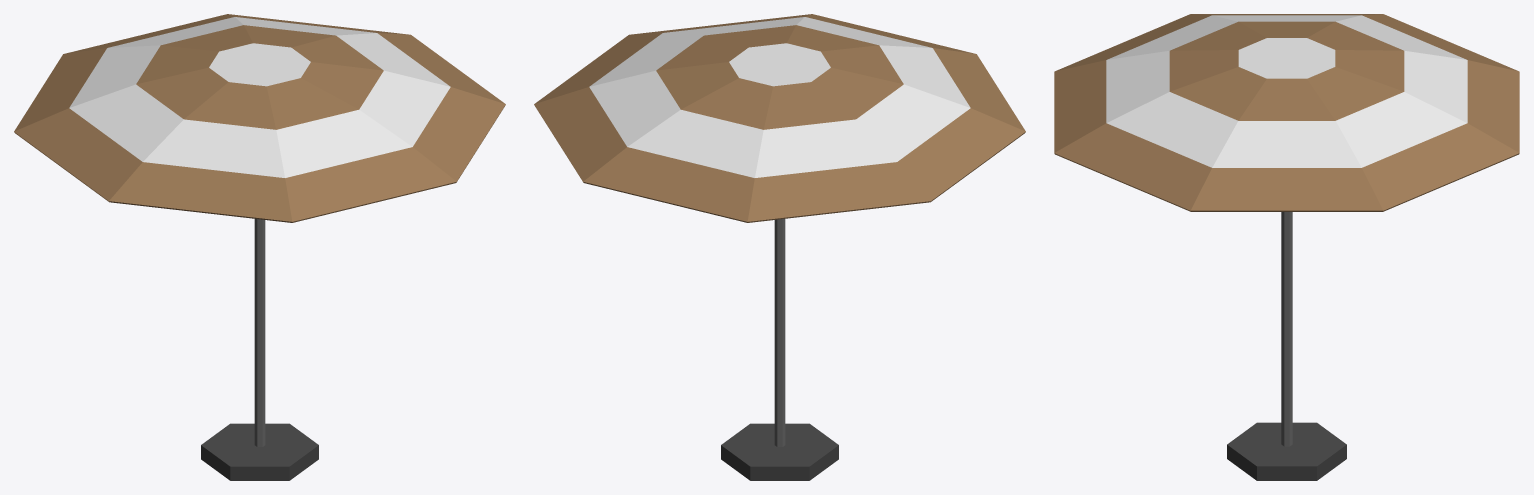
Rendered from Umbrella_05.fbx.
3 renders of one model, left to right at view 1: azimuth 30°, elevation 25°; view 2: azimuth 150°, elevation 25°; view 3: azimuth 270°, elevation 25°, orthographic.
Visible parts, largest first — view 1: Umbrella_05; view 2: Umbrella_05; view 3: Umbrella_05.
Boxes of the visible parts, x1,y1,x2,y2 form: Umbrella_05: [14, 14, 505, 480]; Umbrella_05: [534, 14, 1025, 480]; Umbrella_05: [1054, 14, 1519, 480].
Size of the model in its own units: 277 by 263 by 277.
